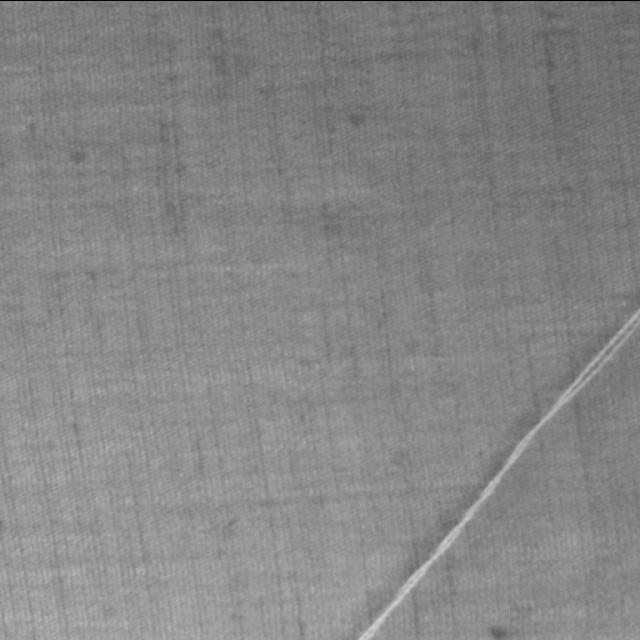Thread: (351, 304, 639, 640)
